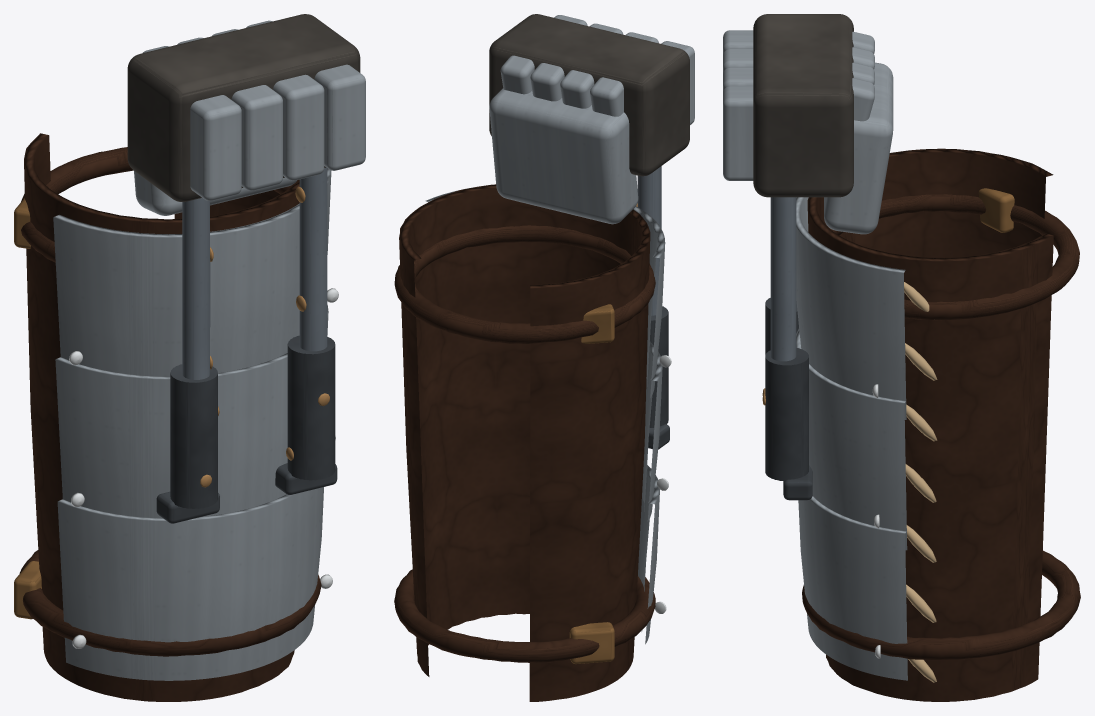
The model's file is power-knuckles.glb.
3 views of the same model, side by side, from view 1: azimuth 30°, elevation 25°; view 2: azimuth 150°, elevation 25°; view 3: azimuth 270°, elevation 25° (orthographic). The views are drawn at different scales.
Visible parts, largest first — view 1: steel / forged blade steel, leather / oiled leather wrap, iron / hammer-scaled wrought iron, darksteel / oil-blackened fittings, alloy / machined anodized alloy, bronze / cast bronze with patina, edge / honed bright bevel; view 2: leather / oiled leather wrap, steel / forged blade steel, iron / hammer-scaled wrought iron, bronze / cast bronze with patina, darksteel / oil-blackened fittings, alloy / machined anodized alloy; view 3: leather / oiled leather wrap, steel / forged blade steel, iron / hammer-scaled wrought iron, darksteel / oil-blackened fittings, alloy / machined anodized alloy, thread loop, bronze / cast bronze with patina.
Boxes of the visible parts, x1,y1,x2,y2 form: steel / forged blade steel: [53, 20, 365, 680]; leather / oiled leather wrap: [19, 133, 321, 701]; iron / hammer-scaled wrought iron: [127, 14, 360, 201]; darksteel / oil-blackened fittings: [156, 335, 337, 523]; alloy / machined anodized alloy: [182, 167, 327, 379]; bronze / cast bronze with patina: [14, 198, 41, 619]; edge / honed bright bevel: [69, 288, 338, 648]; leather / oiled leather wrap: [394, 184, 655, 701]; steel / forged blade steel: [425, 15, 694, 644]; iron / hammer-scaled wrought iron: [489, 14, 689, 176]; bronze / cast bronze with patina: [569, 304, 614, 663]; darksteel / oil-blackened fittings: [648, 306, 669, 449]; alloy / machined anodized alloy: [637, 166, 661, 315]; leather / oiled leather wrap: [802, 148, 1080, 701]; steel / forged blade steel: [723, 30, 907, 680]; iron / hammer-scaled wrought iron: [753, 14, 853, 197]; darksteel / oil-blackened fittings: [765, 298, 812, 500]; alloy / machined anodized alloy: [770, 197, 796, 361]; thread loop: [904, 282, 937, 682]; bronze / cast bronze with patina: [978, 188, 1014, 232].
Bounding box in the file's own units: 0.1579 × 0.3625 × 0.1955.
9 materials, 7 textured.
